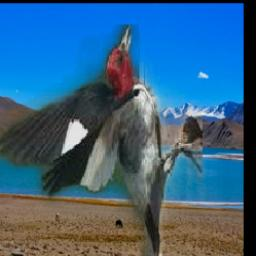Woodpecker: (0, 25, 204, 256)
